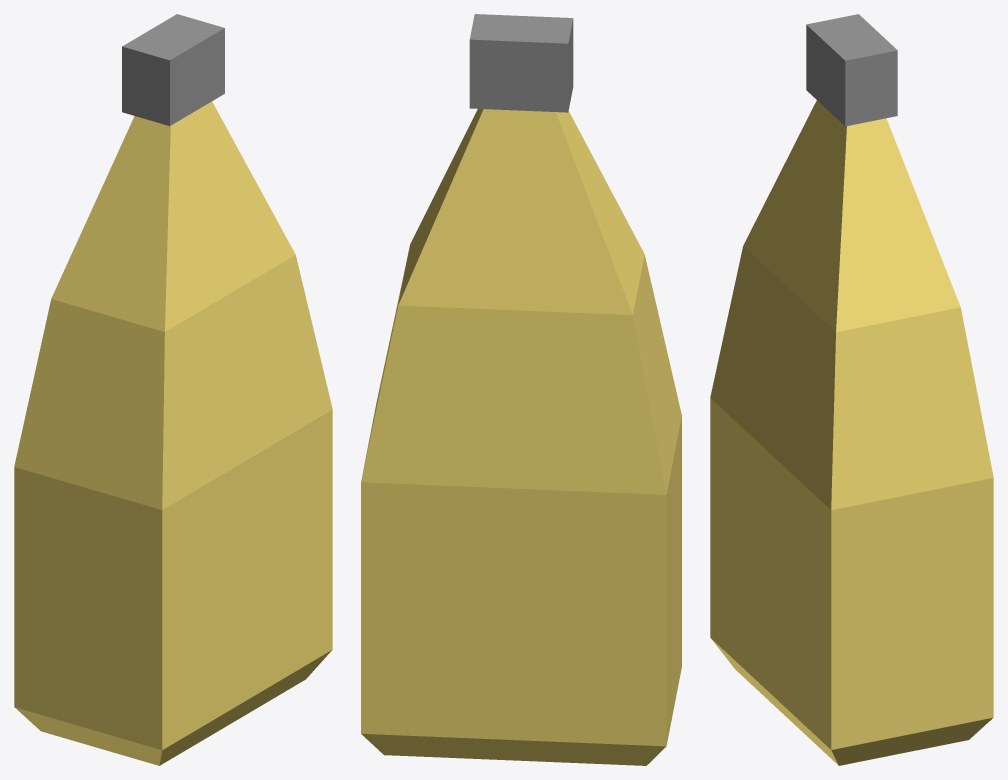
Rendered from Bottle_18.fbx.
3 views of the same model, side by side, from view 1: azimuth 30°, elevation 25°; view 2: azimuth 150°, elevation 25°; view 3: azimuth 270°, elevation 25° (orthographic). The views are drawn at different scales.
Parts seen in each view (by area): view 1: Bottle_18; view 2: Bottle_18; view 3: Bottle_18.
Boxes of the visible parts, <box> form: Bottle_18: <box>14,14,332,765</box>; Bottle_18: <box>361,14,681,765</box>; Bottle_18: <box>710,14,993,765</box>.
Size of the model in its own units: 11.96 by 9.88 by 25.65.
